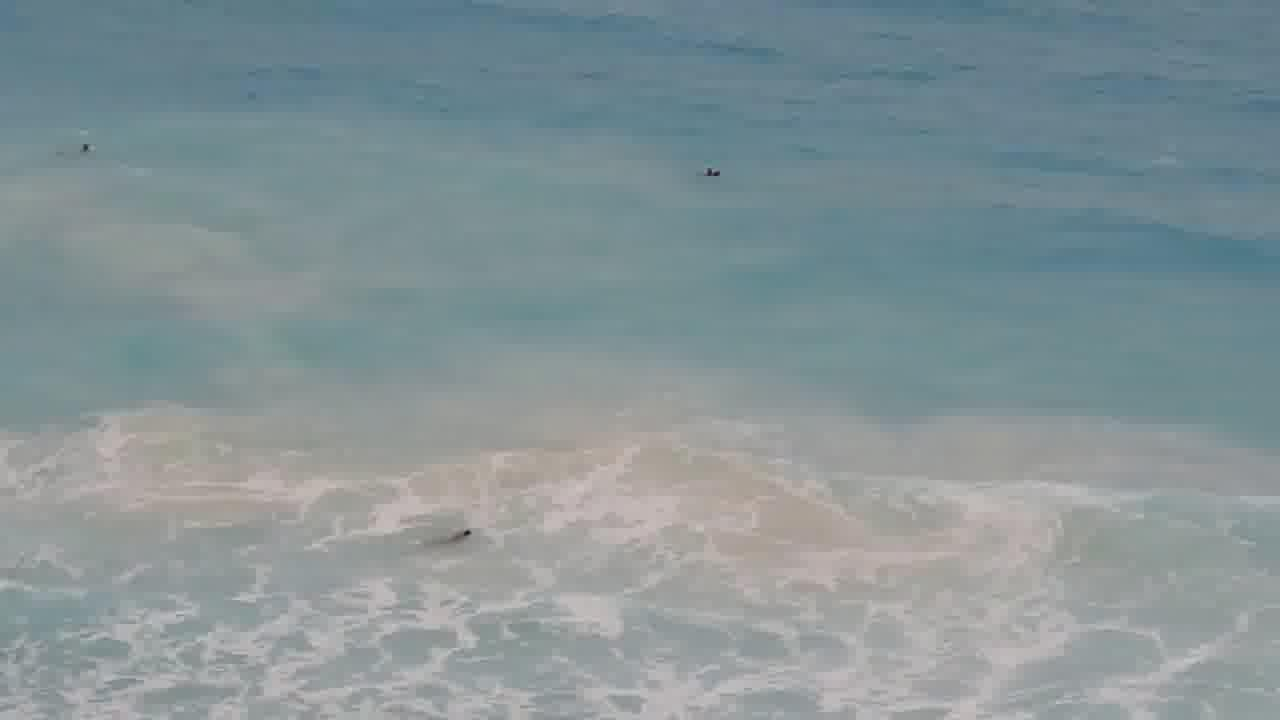swimmer: (691, 154, 741, 198), (66, 129, 110, 163), (433, 522, 489, 548)
